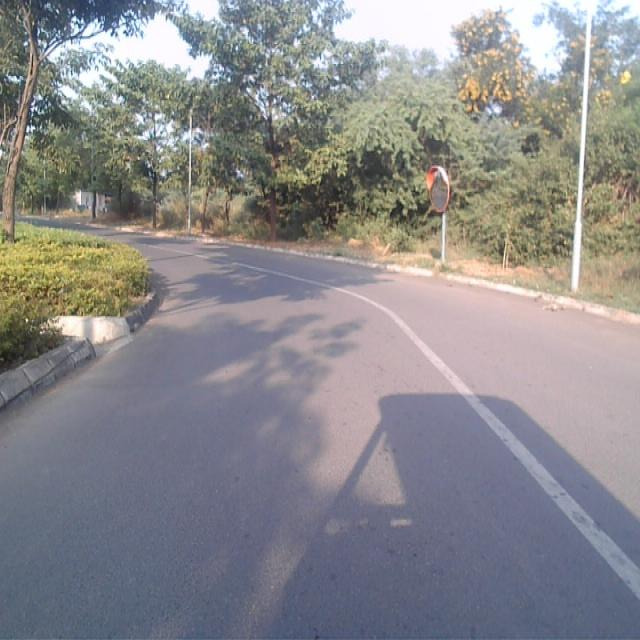lane: (0, 249, 640, 640)
